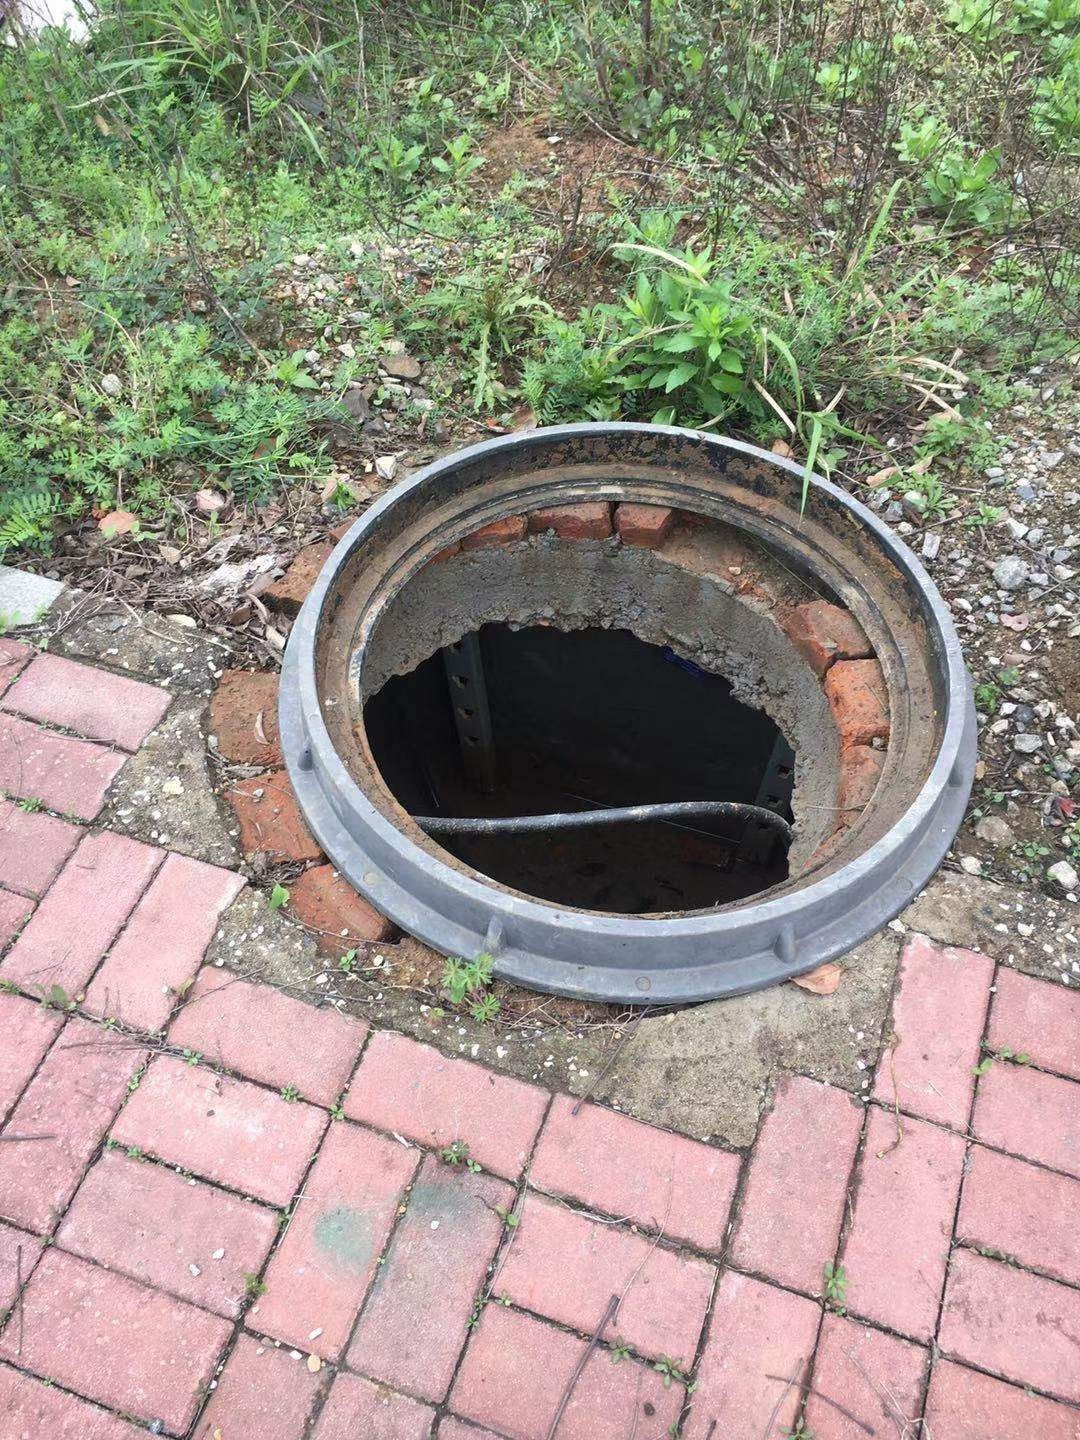lose: (278, 422, 982, 1010)
